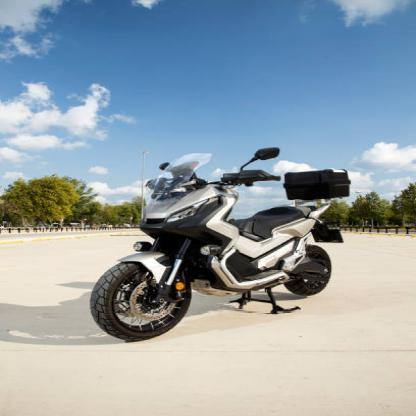Motorcycle: (82, 123, 352, 346)
